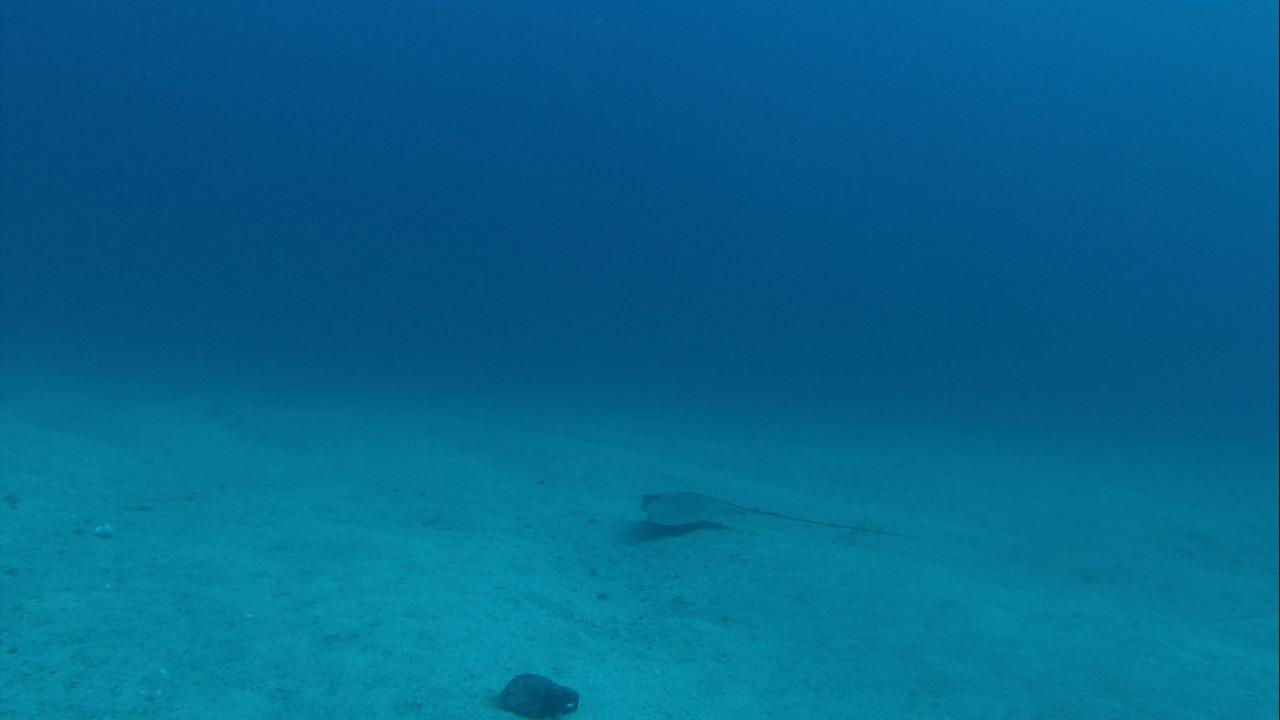myliobatis: (618, 482, 921, 553)
